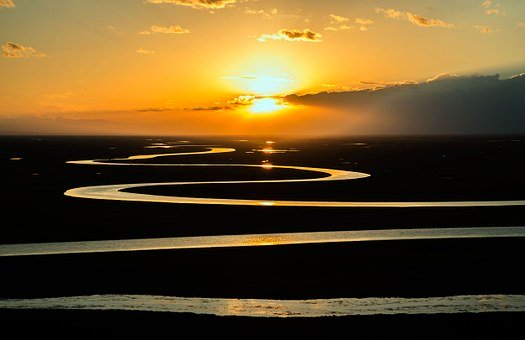mountain: (6, 6, 520, 132)
